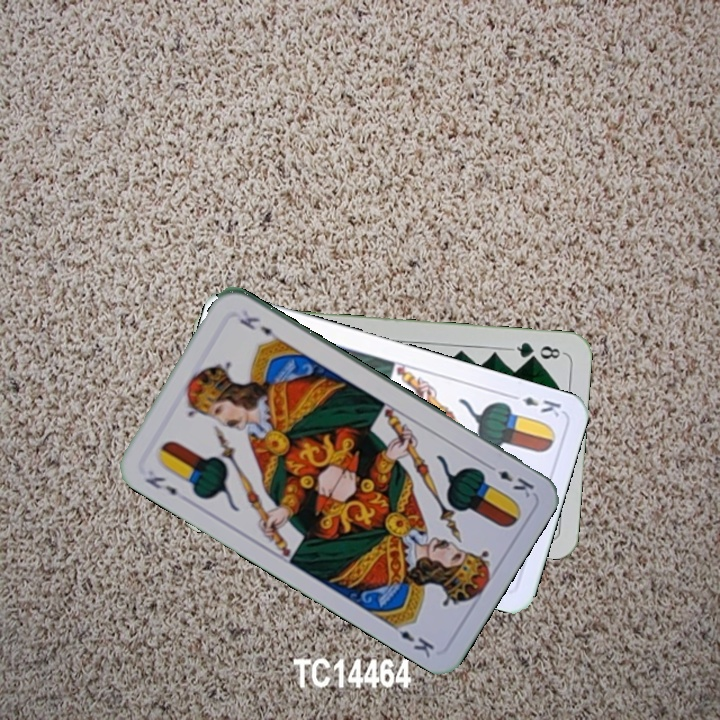EK: (482, 459, 537, 500), (505, 390, 564, 420), (141, 472, 180, 498)
G8: (507, 338, 566, 363)
